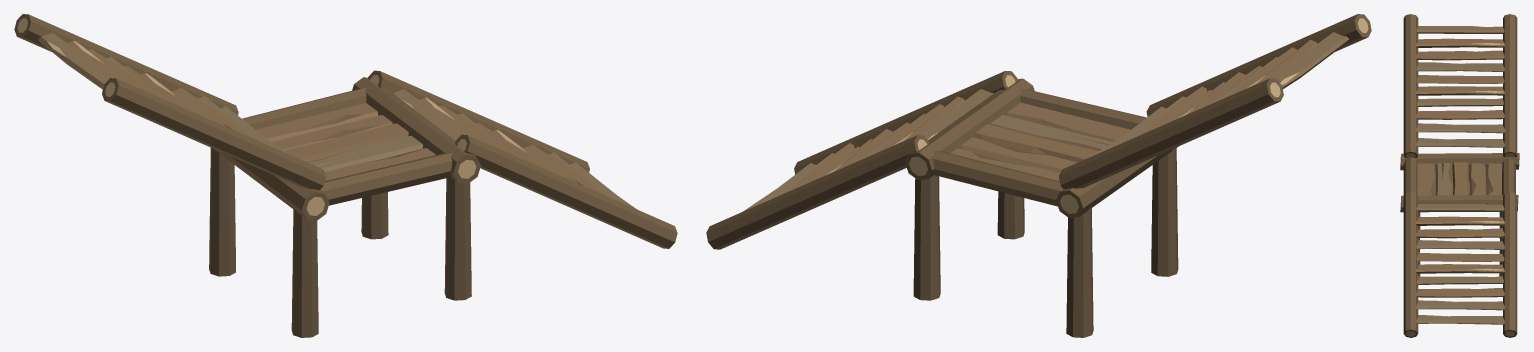
Rendered from rpgpp_ag_wall_platform_stairs_02c_4m.fbx.
3 renders of one model, left to right at view 1: azimuth 30°, elevation 25°; view 2: azimuth 150°, elevation 25°; view 3: azimuth 270°, elevation 25°, orthographic. The views are drawn at different scales.
Parts seen in each view (by area): view 1: rpgpp_ag_wall_platform_stairs_02c_4m; view 2: rpgpp_ag_wall_platform_stairs_02c_4m; view 3: rpgpp_ag_wall_platform_stairs_02c_4m.
Boxes of the visible parts, left/top/right/bottom form: rpgpp_ag_wall_platform_stairs_02c_4m: left=14, top=14, right=677, bottom=337; rpgpp_ag_wall_platform_stairs_02c_4m: left=706, top=14, right=1371, bottom=337; rpgpp_ag_wall_platform_stairs_02c_4m: left=1400, top=14, right=1519, bottom=337.
Size of the model in its own units: 8.27 by 4.22 by 2.65.
